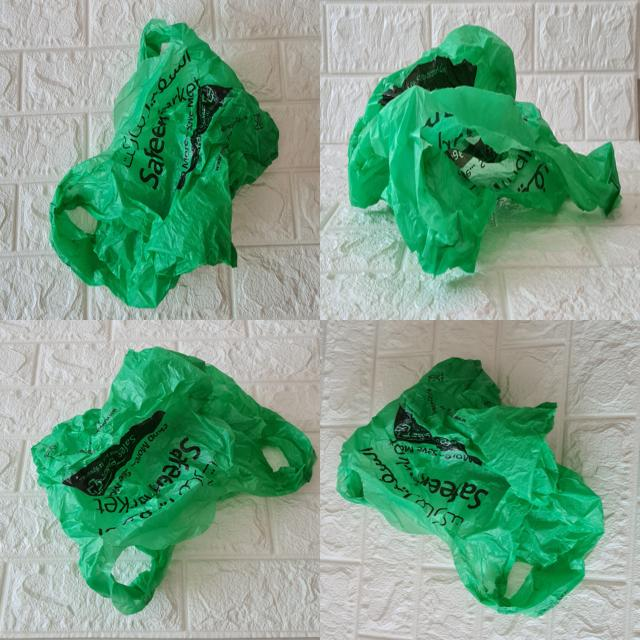Single-layer Plastic: (31, 348, 315, 615), (338, 358, 604, 618), (349, 25, 621, 275), (50, 19, 279, 308)
